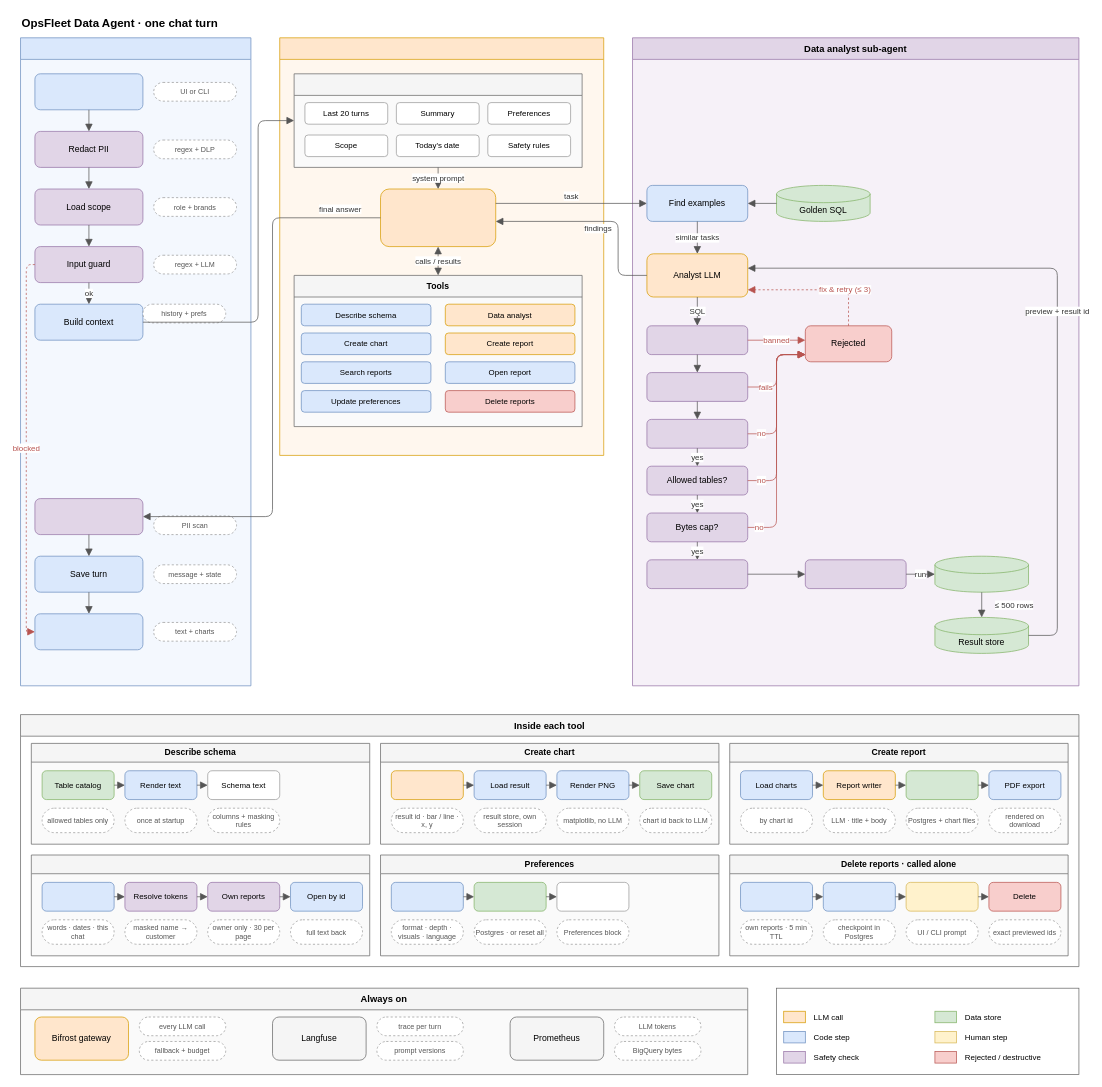
This 1102x1087 diagram has some shape labels left out. The shapes that lost their labels are listed below. From the top down, each one's box as (x1, y1, x2, y2) in pixels, then its label:
(34, 73, 143, 110): User question
(293, 73, 582, 167): Prompt
(380, 188, 496, 247): Orchestrator LLM
(279, 37, 604, 455): Orchestrator agent
(646, 325, 748, 355): Text check
(20, 37, 251, 686): Chat turn
(646, 372, 748, 401): Dry run
(646, 419, 748, 448): SELECT only?
(34, 498, 143, 535): Output guard
(646, 559, 748, 589): Brand filter
(805, 559, 906, 589): Mask PII
(934, 555, 1029, 592): BigQuery
(34, 613, 143, 650): Stream answer
(391, 770, 463, 800): LLM picks
(905, 770, 978, 800): Save report
(41, 882, 114, 911): Filters
(31, 854, 370, 956): Search / open reports
(391, 882, 463, 911): Validate
(473, 882, 546, 911): Save per user
(556, 882, 629, 911): Next prompts
(740, 882, 813, 911): Plan
(823, 882, 895, 911): Pause
(905, 882, 978, 911): User confirms
(776, 987, 1079, 1075): Legend
